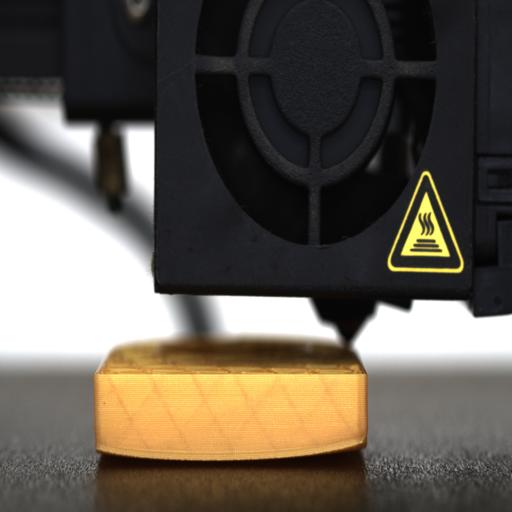warp: (89, 435, 191, 471), (288, 431, 376, 469)
